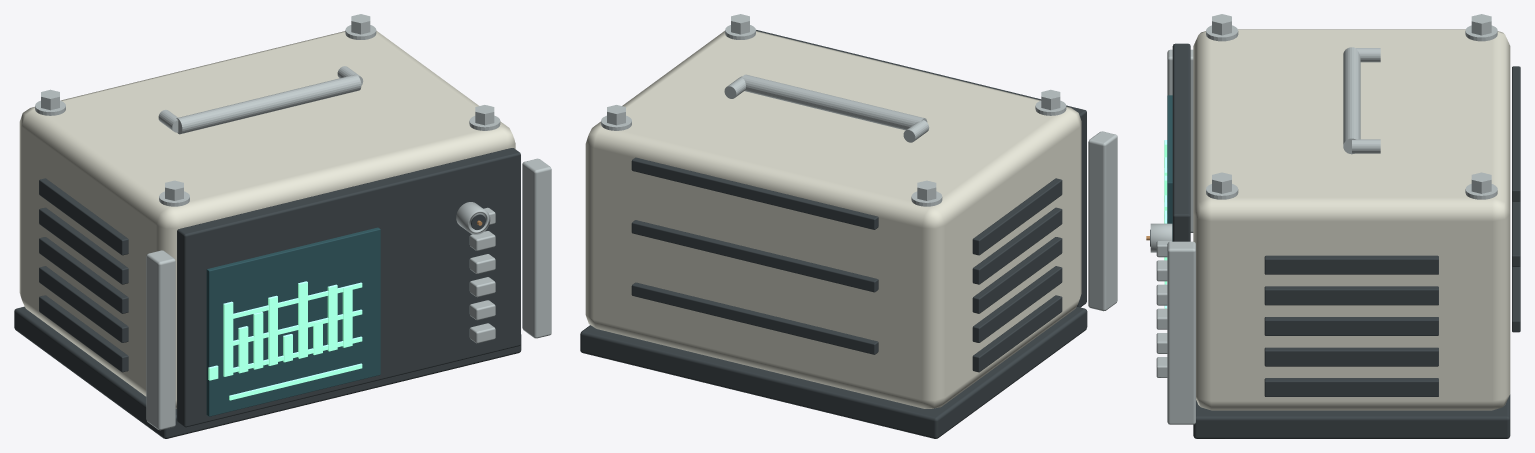
The model's file is broadcast-tower-and-relay-station-broadcast-tower-and--7cf9d85f__30265.glb.
The picture shows the model from 3 angles, left to right: view 1: azimuth 30°, elevation 25°; view 2: azimuth 150°, elevation 25°; view 3: azimuth 270°, elevation 25°; orthographic projection. The views are drawn at different scales.
Visible parts, largest first — view 1: broadcast-tower-and-relay-station-spectrum-analyzer; view 2: broadcast-tower-and-relay-station-spectrum-analyzer; view 3: broadcast-tower-and-relay-station-spectrum-analyzer.
Boxes of the visible parts, x1,y1,x2,y2 form: broadcast-tower-and-relay-station-spectrum-analyzer: (14, 14, 551, 438); broadcast-tower-and-relay-station-spectrum-analyzer: (580, 14, 1117, 438); broadcast-tower-and-relay-station-spectrum-analyzer: (1146, 14, 1520, 438).
Size of the model in its own units: 0.66 by 0.392 by 0.519.
